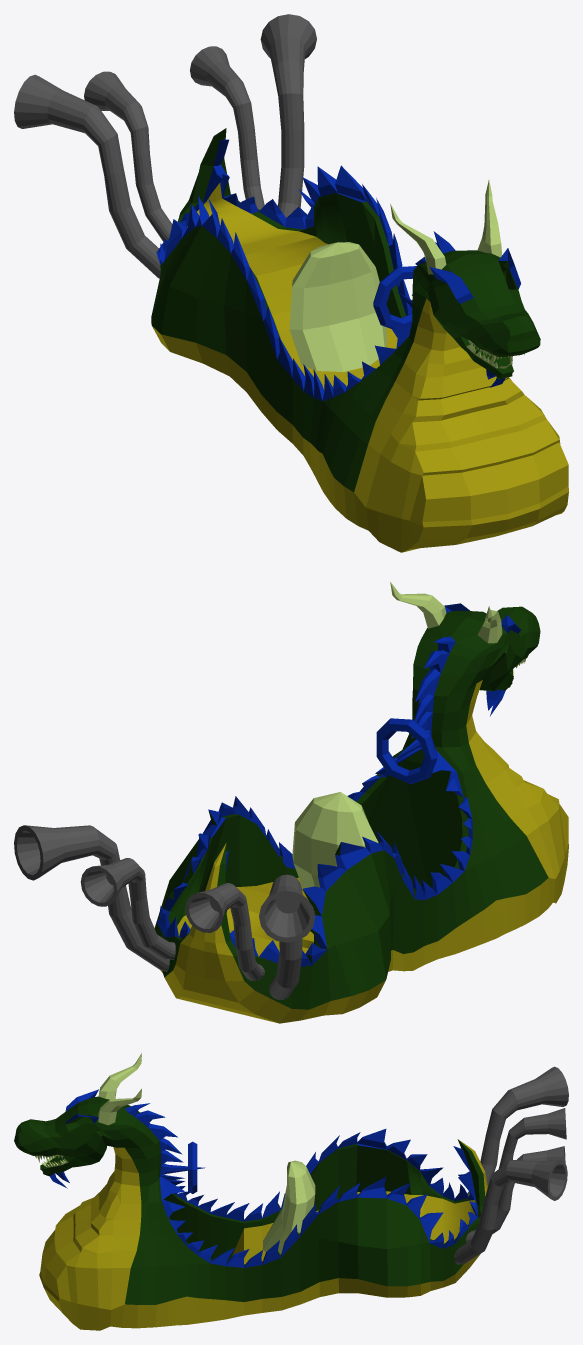
The model's file is KartChino.obj.
3 renders of one model, top to bottom at view 1: azimuth 30°, elevation 25°; view 2: azimuth 150°, elevation 25°; view 3: azimuth 270°, elevation 25°, orthographic. The views are drawn at different scales.
Parts seen in each view (by area): view 1: Cube.001; view 2: Cube.001; view 3: Cube.001.
Part boxes in pixels (left/top/right/bottom): Cube.001: left=14, top=14, right=568, bottom=552; Cube.001: left=14, top=582, right=568, bottom=1023; Cube.001: left=14, top=1053, right=568, bottom=1330.
Size of the model in its own units: 4.69 by 4.63 by 10.09.
